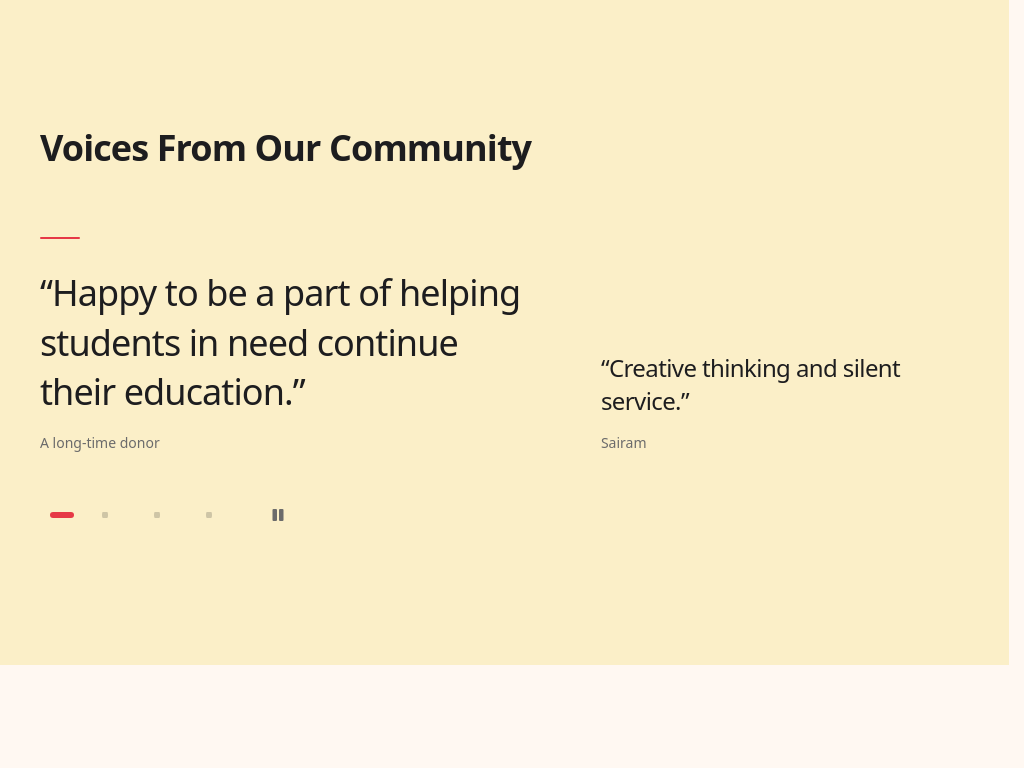
Test: Testimonials explicit pause/play control › choosing a quote by hand stops autoplay and clears a forced Play
What coordinates should you click on to do the following:
click the button named "pause testimonial autoplay"
I would click on:
 (278, 514)
Its box is [256, 492, 300, 536].
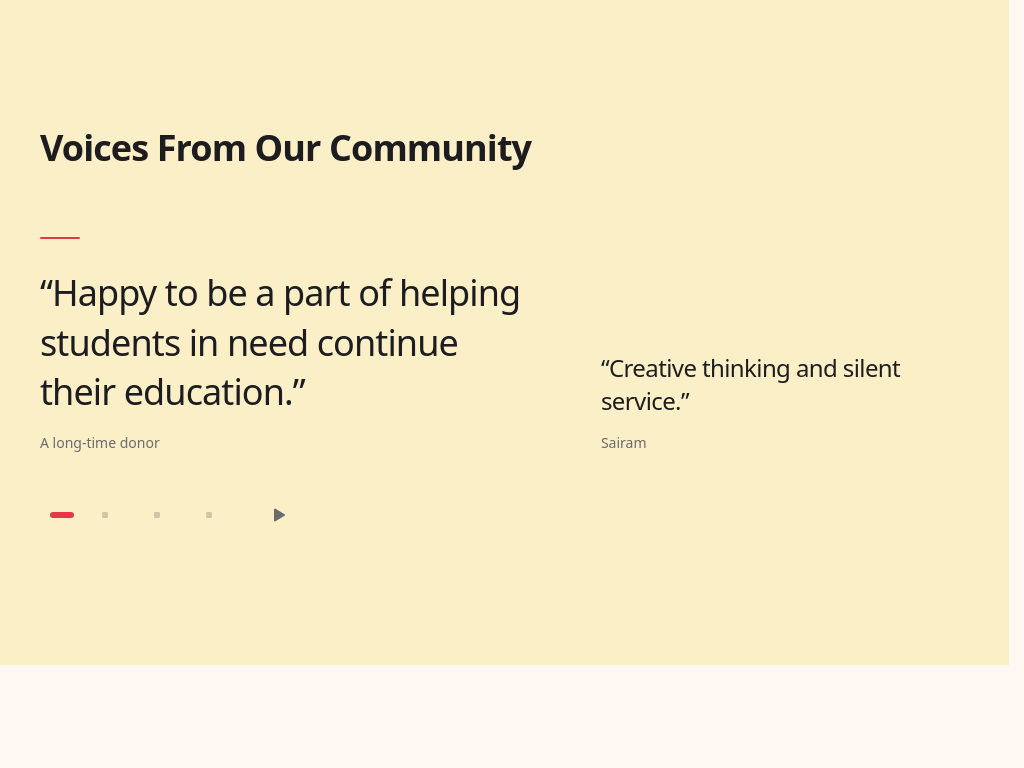
What coordinates should you click on to do the following:
click the button named "start testimonial autoplay"
I would click on:
 (278, 514)
Its box is [256, 492, 300, 536].
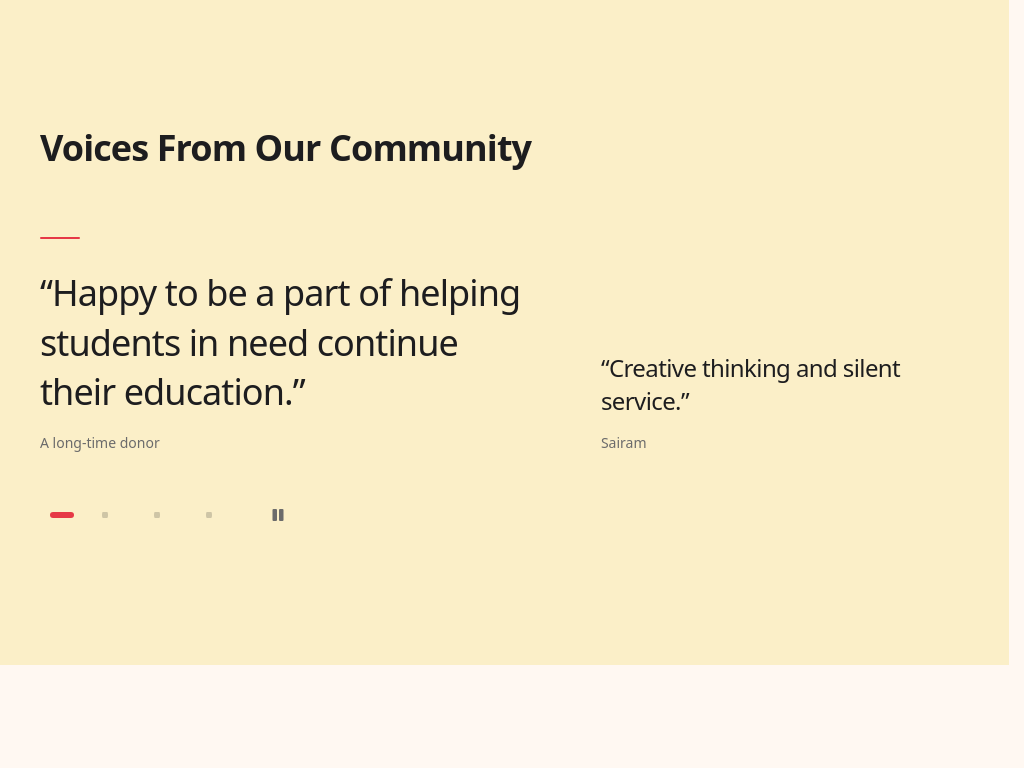
What coordinates should you click on to do the following:
click the button named "Show testimonial 2 of 4"
I would click on:
 (114, 514)
Its box is [92, 492, 136, 536].
Wait 21350 ms
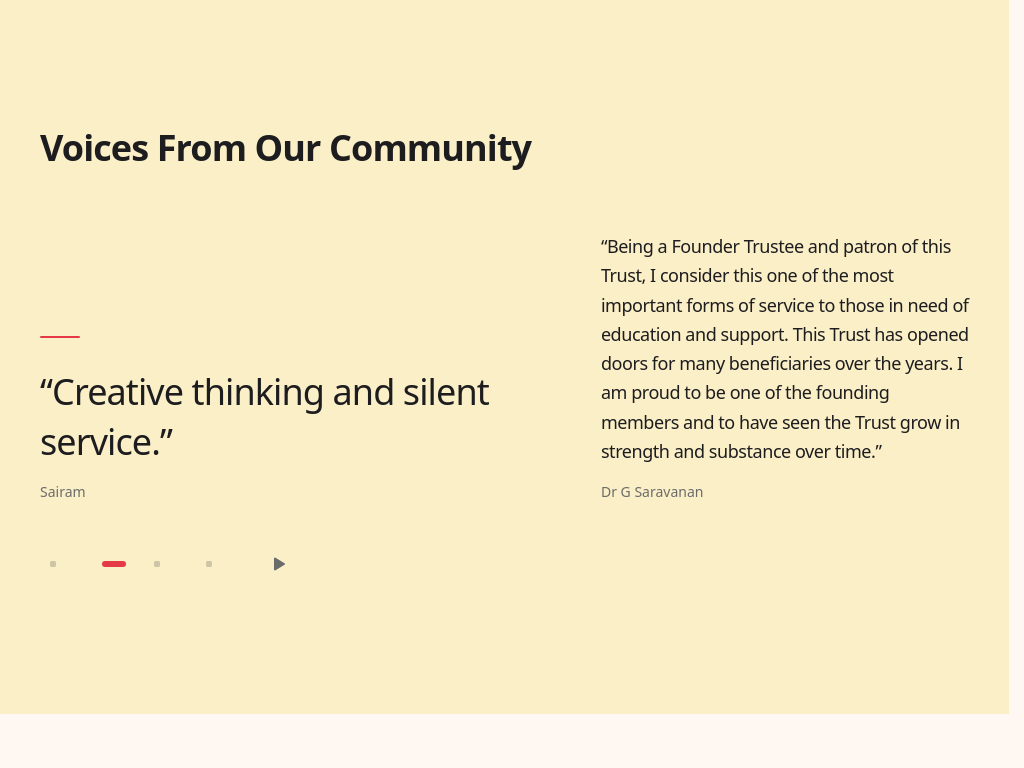
Expected: the button named "start testimonial autoplay" is shown, [256, 542, 300, 586]
